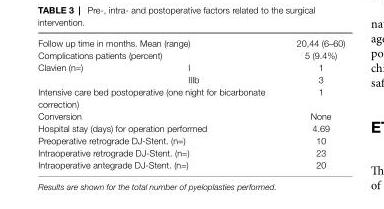table: (37, 37, 344, 169)
table column: (134, 37, 280, 169), (37, 37, 134, 169), (280, 37, 344, 169)
table row: (37, 85, 344, 109), (37, 72, 344, 85), (37, 145, 344, 158), (37, 48, 344, 60), (37, 60, 344, 72), (37, 109, 344, 121), (37, 121, 344, 133), (37, 133, 344, 145), (37, 37, 344, 48), (37, 158, 344, 169)
table spanning cell: (37, 85, 280, 109), (37, 145, 280, 158), (37, 48, 280, 60), (37, 109, 280, 121), (37, 121, 280, 133), (37, 133, 280, 145), (37, 37, 280, 48), (37, 158, 280, 169), (37, 60, 134, 85)
